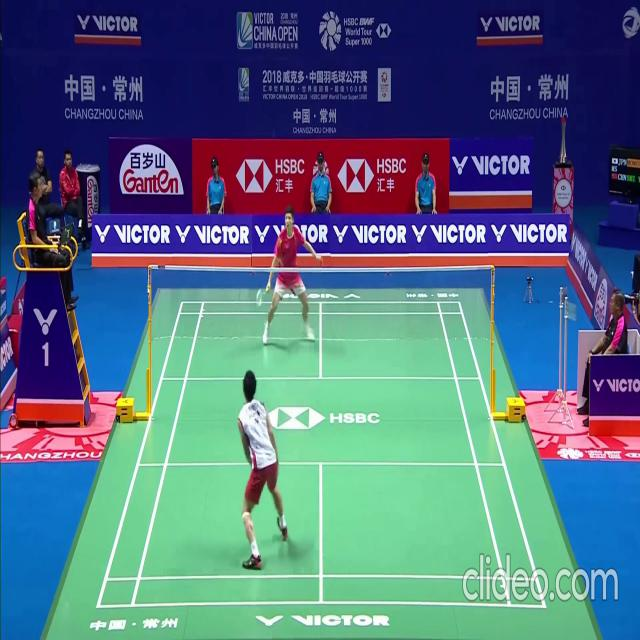Shuttlecock: (227, 225, 231, 232)
